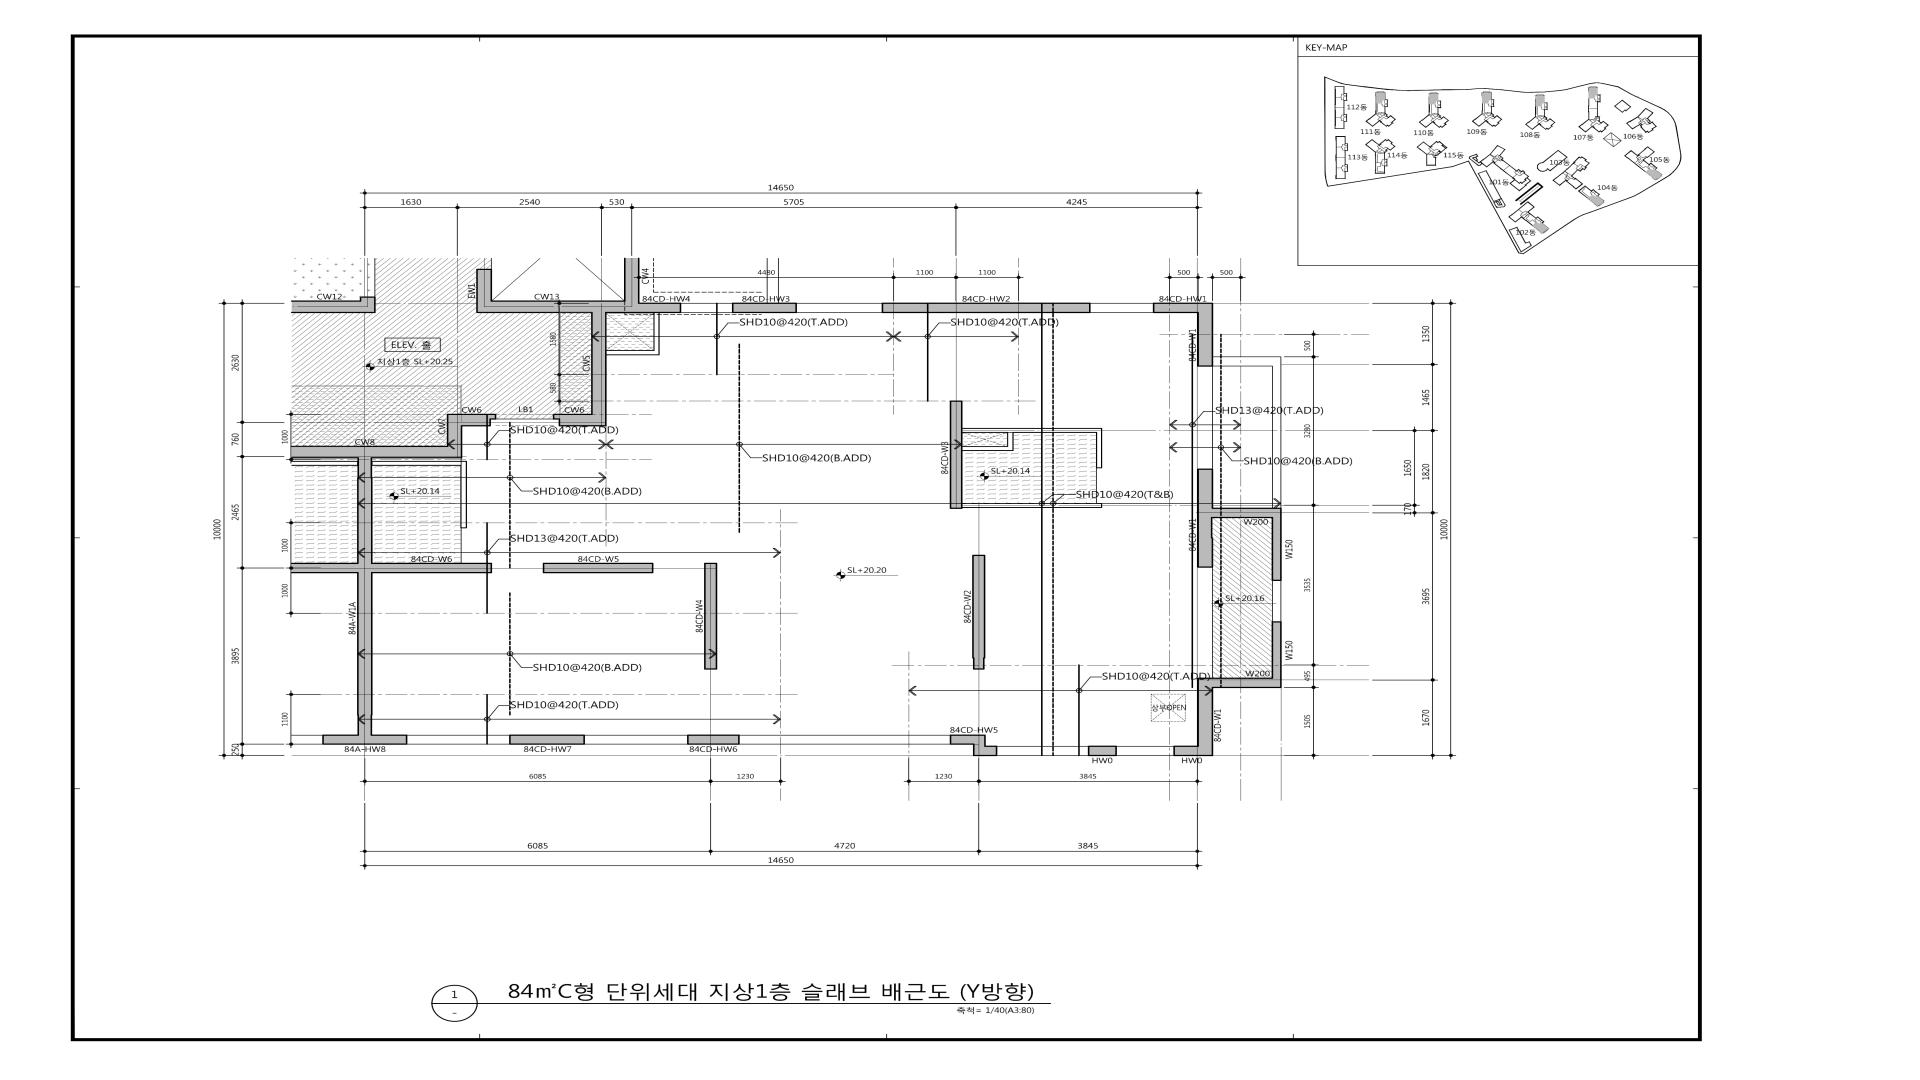wall: (357, 573, 373, 734), (882, 302, 1091, 313), (291, 446, 462, 459), (291, 563, 492, 573), (492, 300, 639, 313), (591, 313, 607, 414), (1197, 469, 1213, 568), (357, 459, 372, 563), (972, 555, 985, 670), (950, 400, 963, 509), (704, 563, 717, 670), (543, 563, 654, 573), (1197, 688, 1213, 756), (322, 734, 407, 745), (291, 300, 360, 313), (1197, 313, 1213, 367), (1197, 677, 1272, 688), (509, 735, 585, 745), (476, 269, 492, 313), (1213, 508, 1282, 518), (624, 258, 640, 300), (1272, 621, 1282, 688), (732, 303, 797, 313), (553, 414, 607, 426), (1272, 518, 1282, 581), (1153, 303, 1213, 313), (687, 735, 740, 745), (447, 414, 462, 446), (639, 303, 681, 313), (462, 414, 496, 426), (1088, 745, 1117, 756), (973, 734, 986, 756), (360, 296, 376, 313), (1173, 746, 1197, 756), (950, 735, 973, 745), (986, 746, 997, 756)
